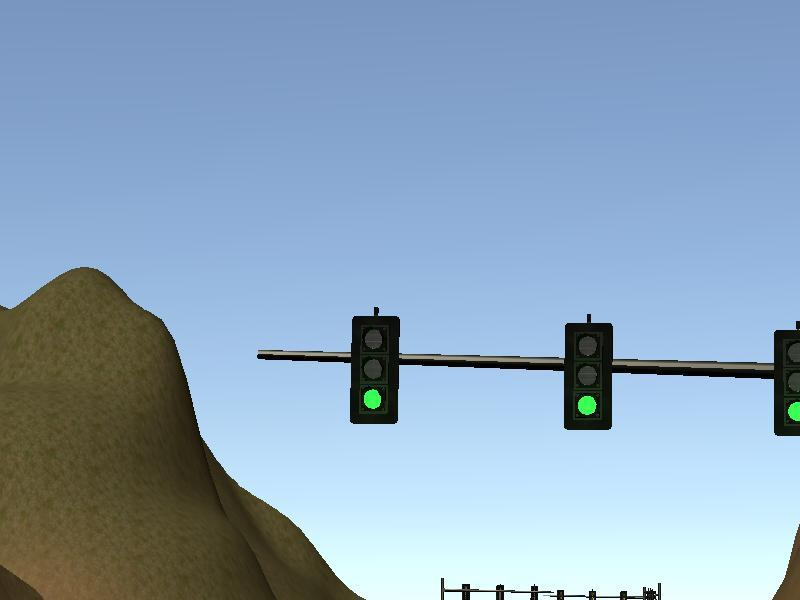Green: (563, 323, 612, 431), (350, 317, 397, 424), (775, 331, 800, 436)
